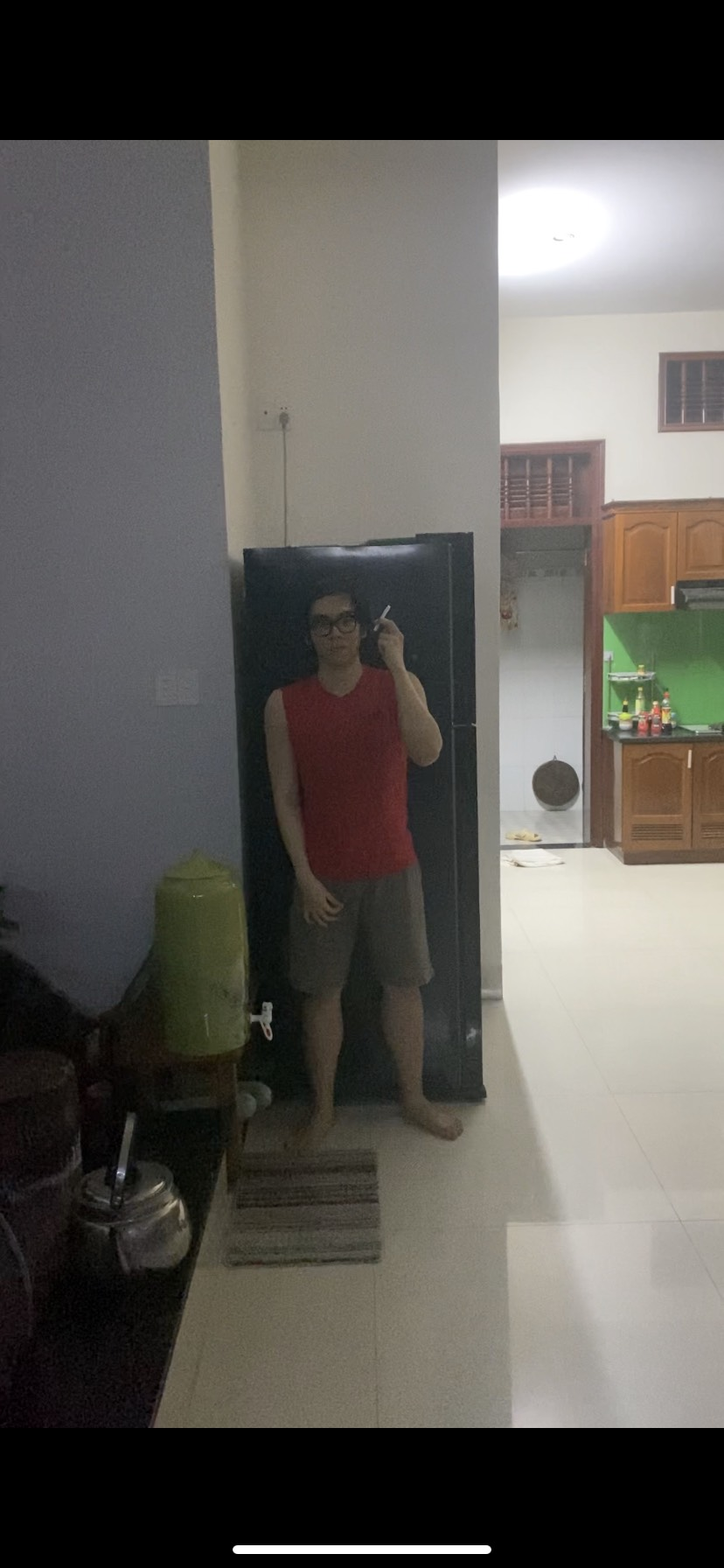cigarette: (379, 601, 394, 620)
person: (263, 578, 470, 1157)
